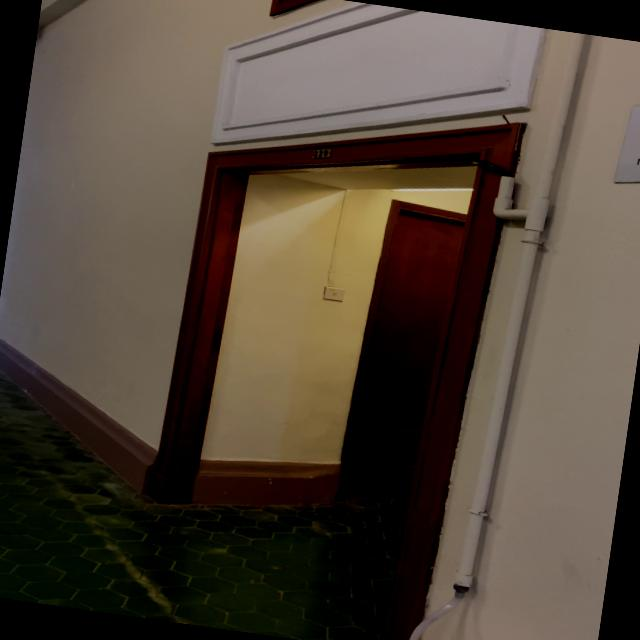room229: (309, 144, 335, 162)
